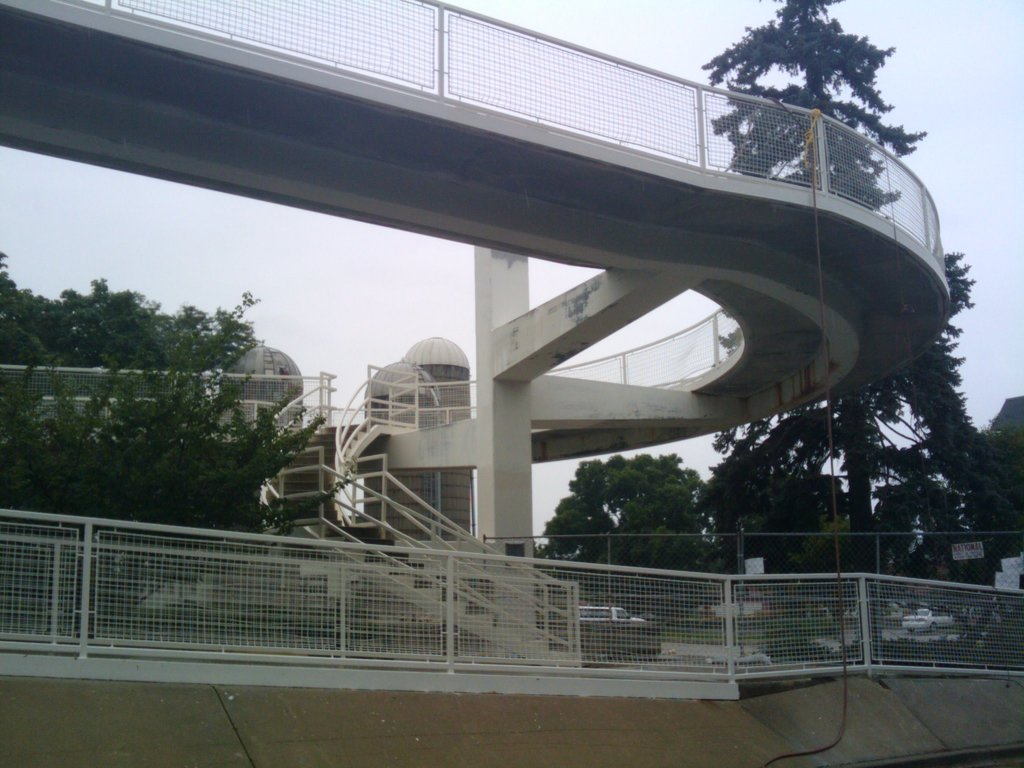Tree: (684, 0, 976, 666), (0, 288, 361, 627), (0, 249, 253, 369), (534, 450, 708, 619), (964, 426, 1023, 585)
